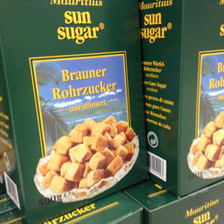tomato_sauce: (1, 1, 153, 224), (141, 1, 223, 197)
